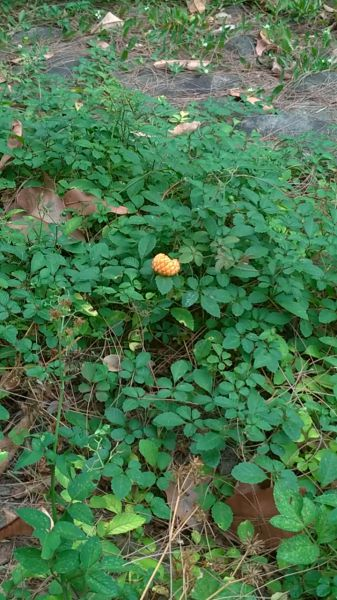eggs: (152, 252, 180, 280)
